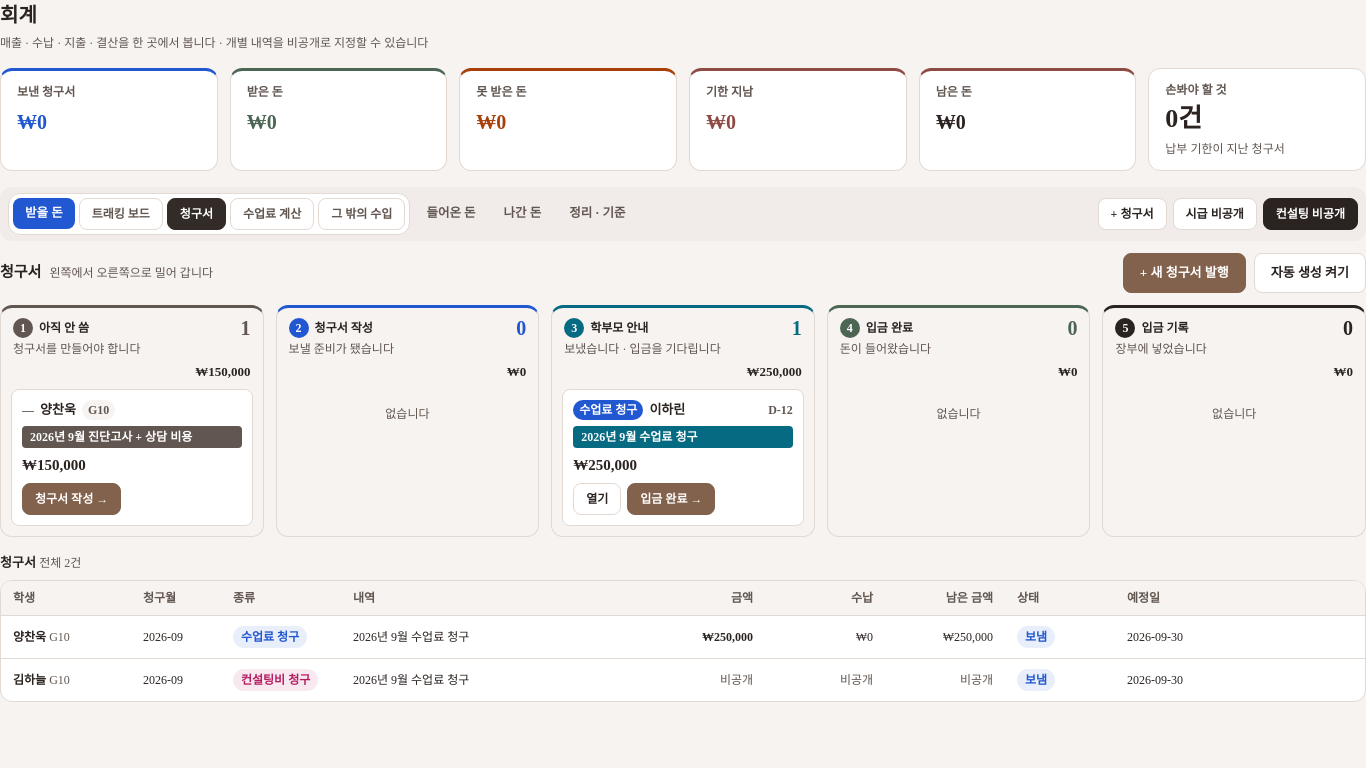
Test: 부제 뒤 절이 되살아나고, 컨설팅 비공개로 가려진 줄은 「비공개」 — 입금 줄의 null 은 컨설팅일 때만 「비공개」, 그 밖은 「미확인」 (N-94)
Expected: the text "매출 · 수납 · 지출 · 결산을 한 곳에서 봅니다 · 개별 내역을 비공개로 지정할 수 있습니다" is shown, [0,34,428,52]
Expected: the text "김하늘" is shown, [13,673,46,687]
Click the button "들어온 돈": (451, 214) [414,198,488,229]
(page scrolled)
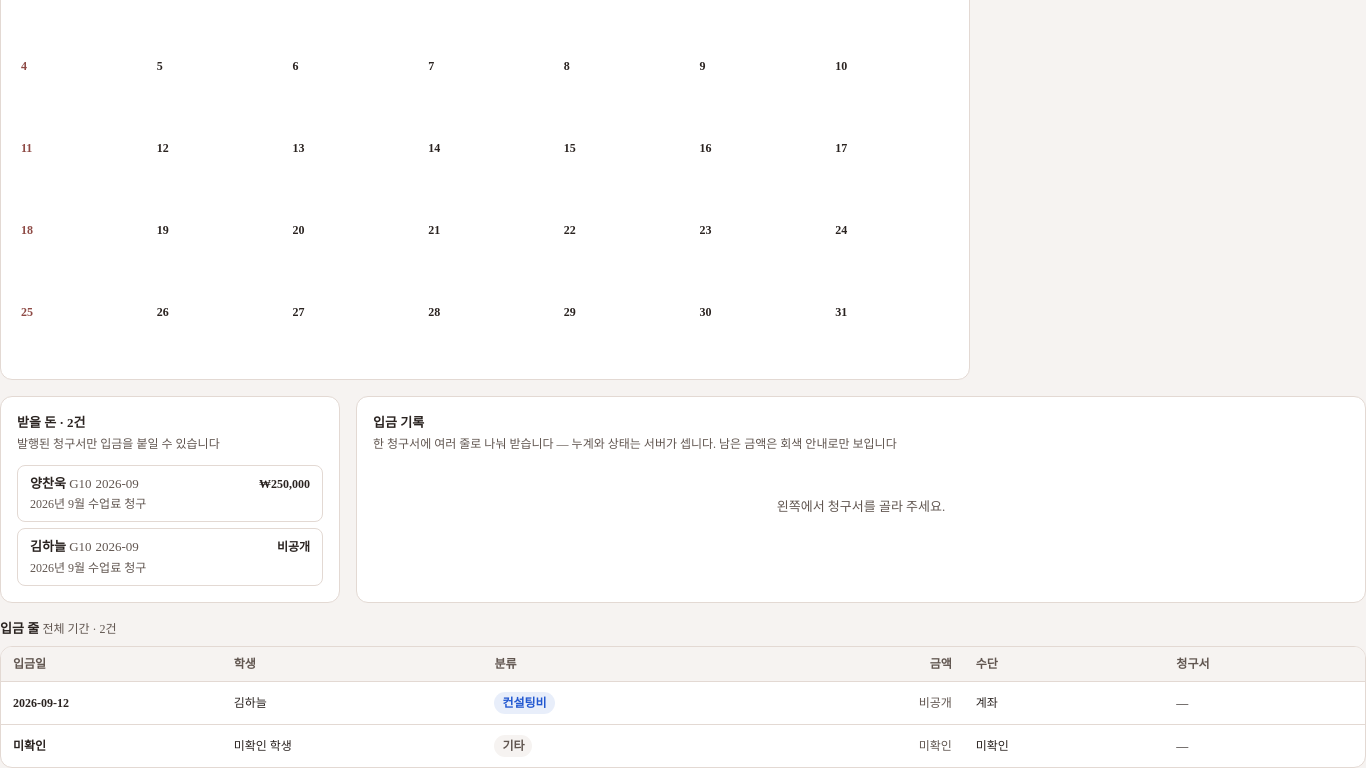
Expected: the text "비공개" below "발행된 청구서만 입금을 붙일 수 있습니다" is shown, [277,540,310,554]
Now the text "미확인 학생" is shown, box [222,724,482,767]
Now the 1st text "미확인" is shown, box [13,739,46,753]
